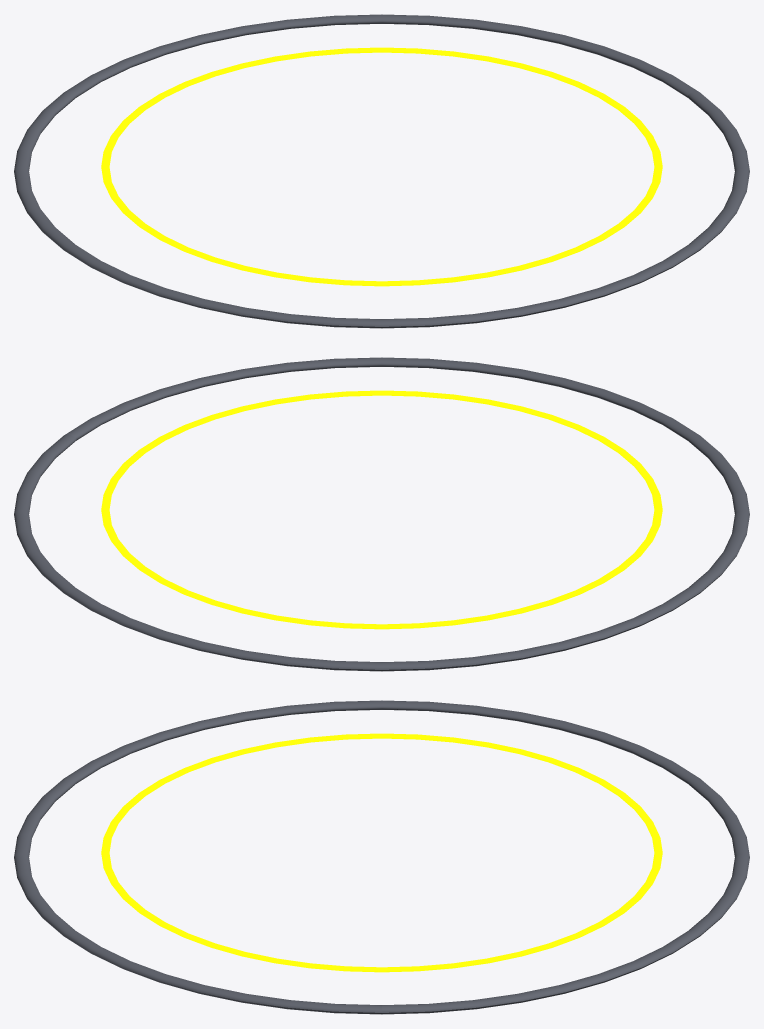
File: aero-pedestal.glb
The picture shows the model from 3 angles, top to bottom: view 1: azimuth 30°, elevation 25°; view 2: azimuth 150°, elevation 25°; view 3: azimuth 270°, elevation 25°; orthographic projection.
Visible parts, largest first — view 1: Pedestal_Outer_Ring, Pedestal_Inner_Ring; view 2: Pedestal_Outer_Ring, Pedestal_Inner_Ring; view 3: Pedestal_Outer_Ring, Pedestal_Inner_Ring.
Part boxes in pixels (x1,y1,x2,y2): Pedestal_Outer_Ring: (14,14,749,328); Pedestal_Inner_Ring: (101,47,662,286); Pedestal_Outer_Ring: (14,357,749,671); Pedestal_Inner_Ring: (101,390,662,629); Pedestal_Outer_Ring: (14,700,749,1014); Pedestal_Inner_Ring: (101,733,662,972).
Bounding box in the file's own units: 4.39 × 0.065 × 4.39.
